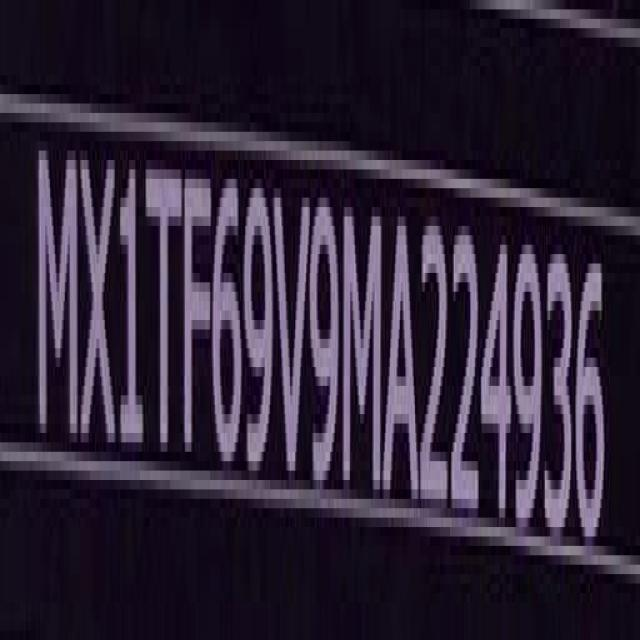1: (120, 146, 140, 464)
2: (420, 206, 450, 516), (454, 216, 482, 522)
3: (549, 248, 575, 542)
4: (482, 221, 510, 527)
6: (212, 164, 244, 481), (577, 253, 608, 551)
9: (309, 188, 341, 496), (245, 174, 275, 489), (514, 231, 543, 534)
A: (388, 200, 419, 503)
F: (183, 162, 211, 478)
M: (36, 134, 81, 457), (342, 195, 384, 499)
T: (147, 156, 179, 473)
V: (277, 168, 309, 492)
X: (82, 146, 119, 464)
